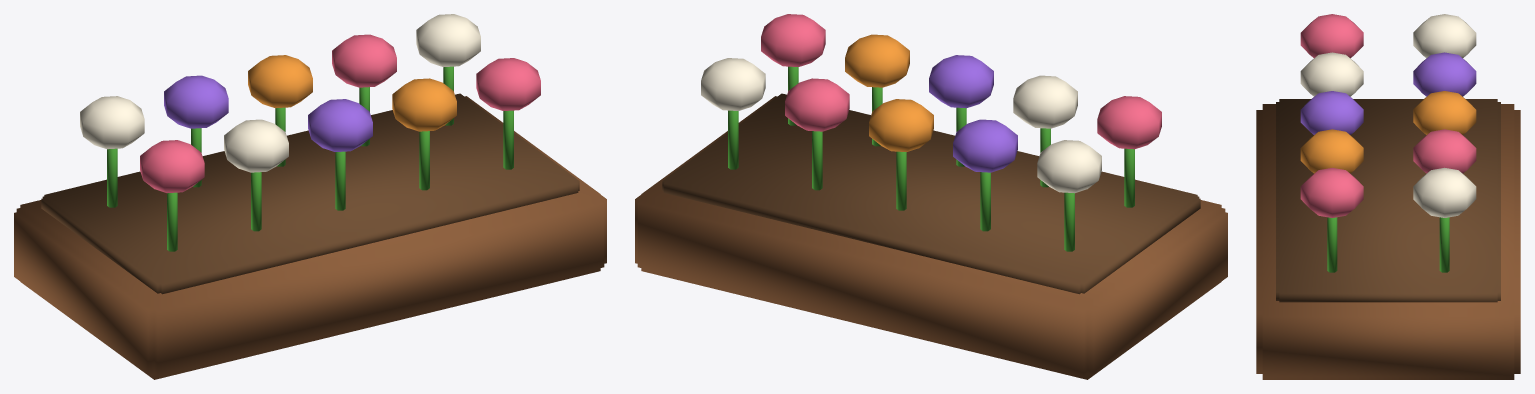
The model's file is canteiro.glb.
The picture shows the model from 3 angles, left to right: view 1: azimuth 30°, elevation 25°; view 2: azimuth 150°, elevation 25°; view 3: azimuth 270°, elevation 25°; orthographic projection. The views are drawn at different scales.
Parts seen in each view (by area): view 1: Canteiro; view 2: Canteiro; view 3: Canteiro.
Part boxes in pixels (x1,y1,x2,y2): Canteiro: [14, 14, 606, 379]; Canteiro: [635, 14, 1227, 379]; Canteiro: [1256, 14, 1520, 379].
Bounding box in the file's own units: 1.5 × 0.61 × 0.8.
